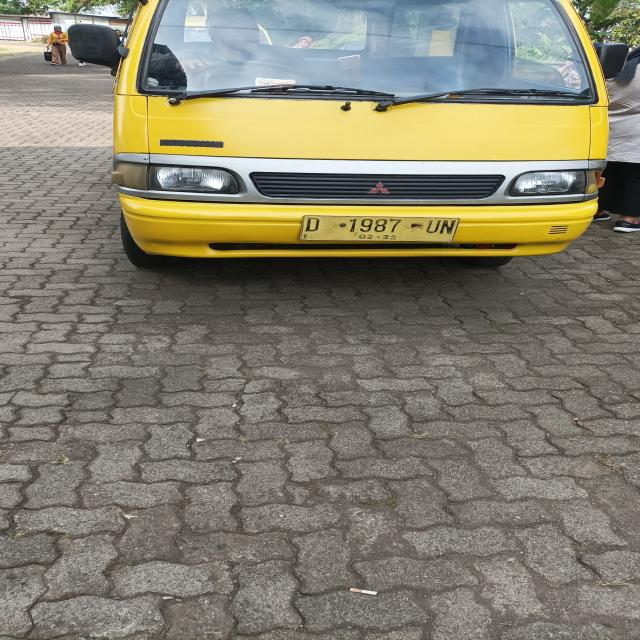license-plat: (285, 212, 471, 255)
